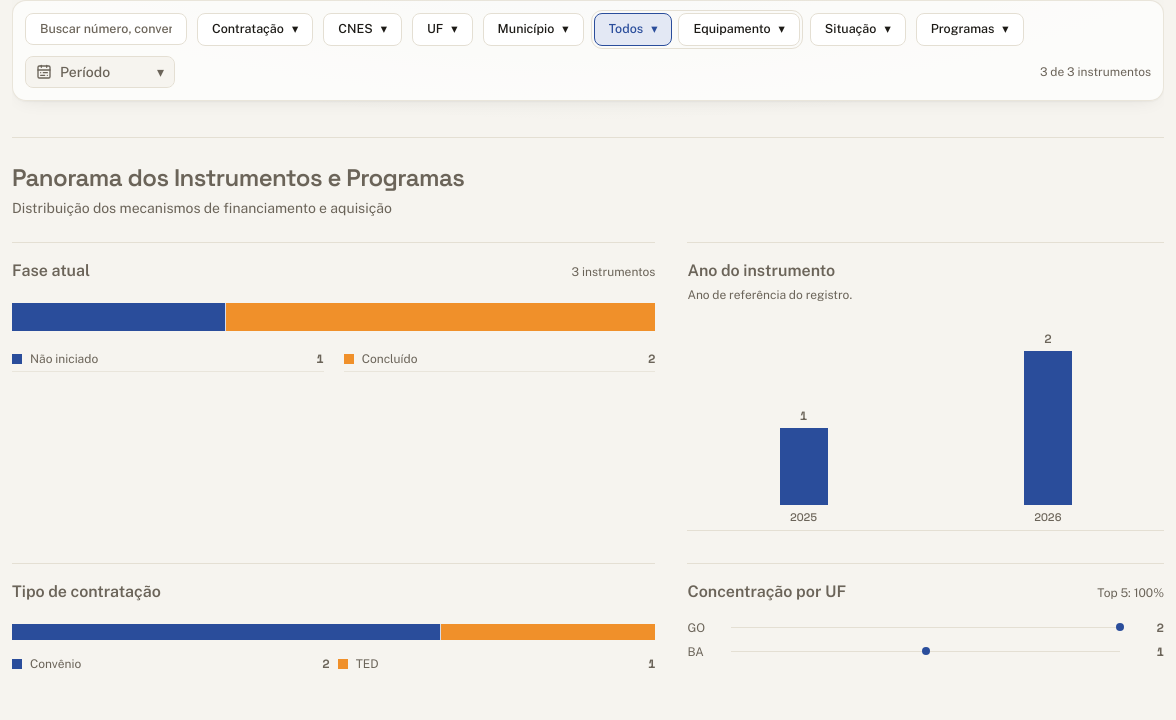
Panorama do painel com dados e filtros reais › remove os gráficos anteriores quando a combinação de filtros não encontra dados
The width and height of the screenshot is (1176, 720).
In the field labelled "Buscar número, convenente, CNES ou município": point(106, 29) [25,13,187,45], type "Sem correspondência"
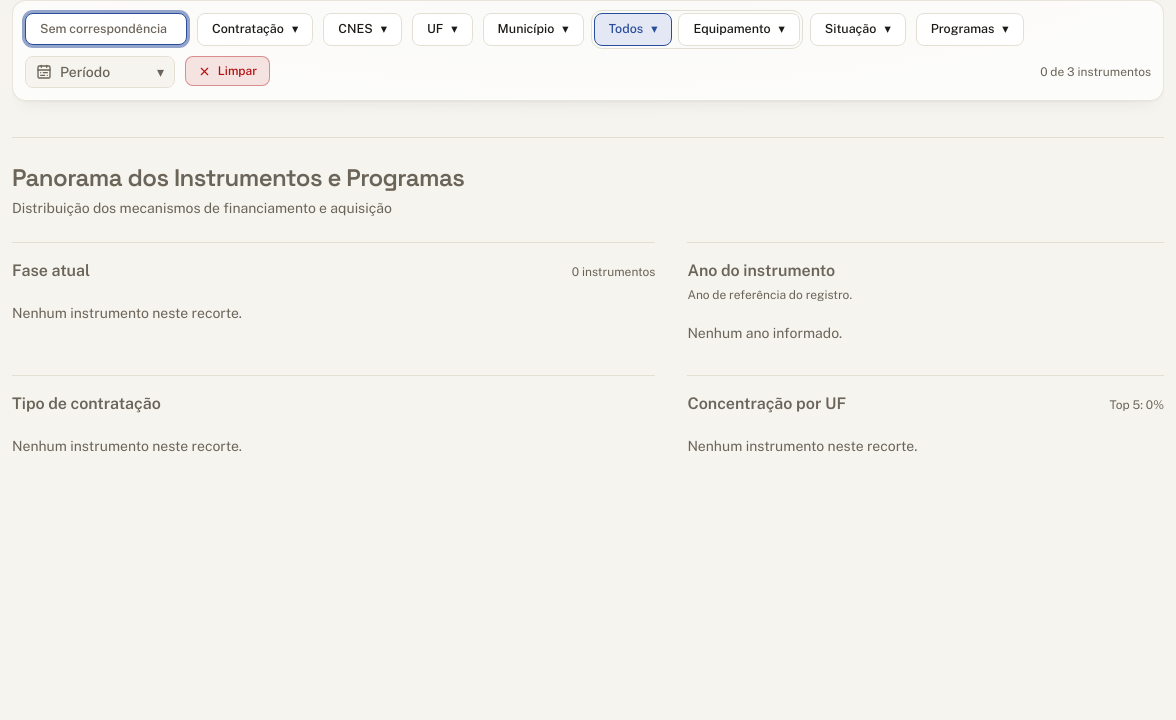
Check: no pictures are shown
Check: the text "Nenhum instrumento neste recorte." is shown 3 times, box [12,305,242,321]; [12,438,242,454]; [687,438,917,454]
Check: the text "Nenhum ano informado." is shown, box [687,325,842,341]
